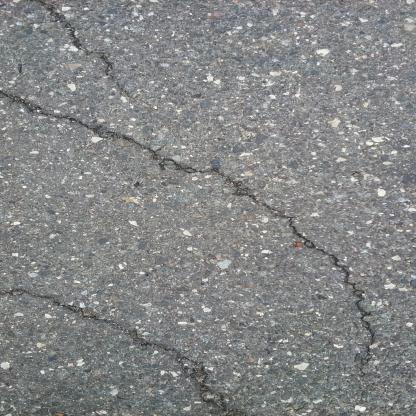Cracks: (2, 85, 383, 369), (7, 287, 241, 416), (21, 0, 131, 96)
